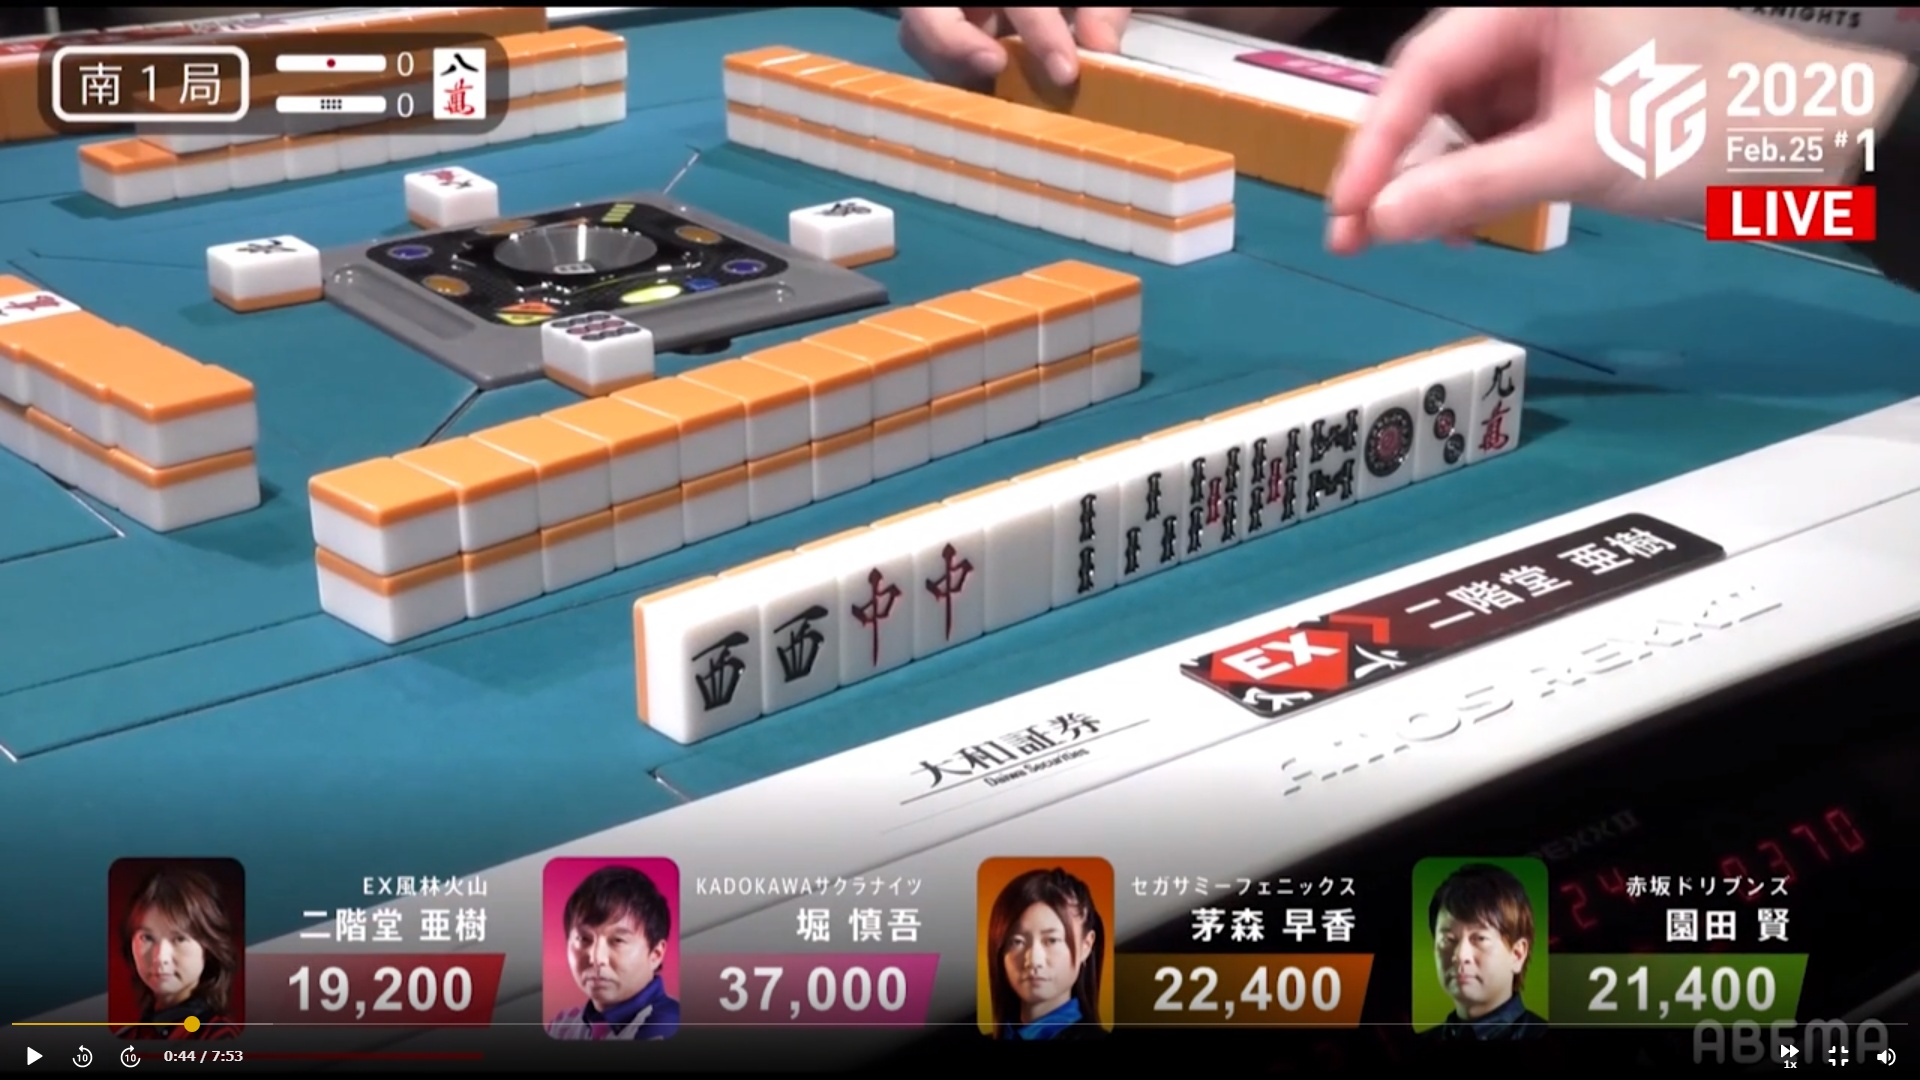1p: (1362, 392, 1416, 492)
2s: (1056, 489, 1116, 595)
3p: (1415, 369, 1472, 476)
3s: (1118, 465, 1187, 582)
5s: (1185, 440, 1245, 555), (1249, 423, 1298, 529)
8s: (1303, 406, 1360, 516)
9m: (1473, 351, 1523, 459)
chun: (910, 525, 986, 654), (839, 554, 910, 679)
haku: (982, 489, 1052, 633)
hand_nan_1: (40, 37, 255, 124)
round_0: (262, 86, 421, 128)
sha: (673, 607, 756, 738), (760, 584, 839, 708)
team_exfurinkazan: (1179, 597, 1436, 720)
